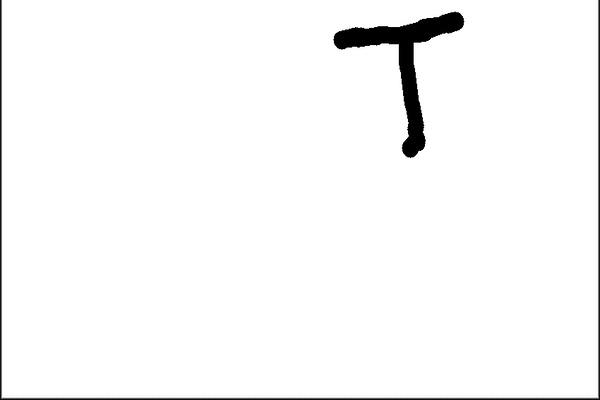T: (333, 15, 480, 158)
